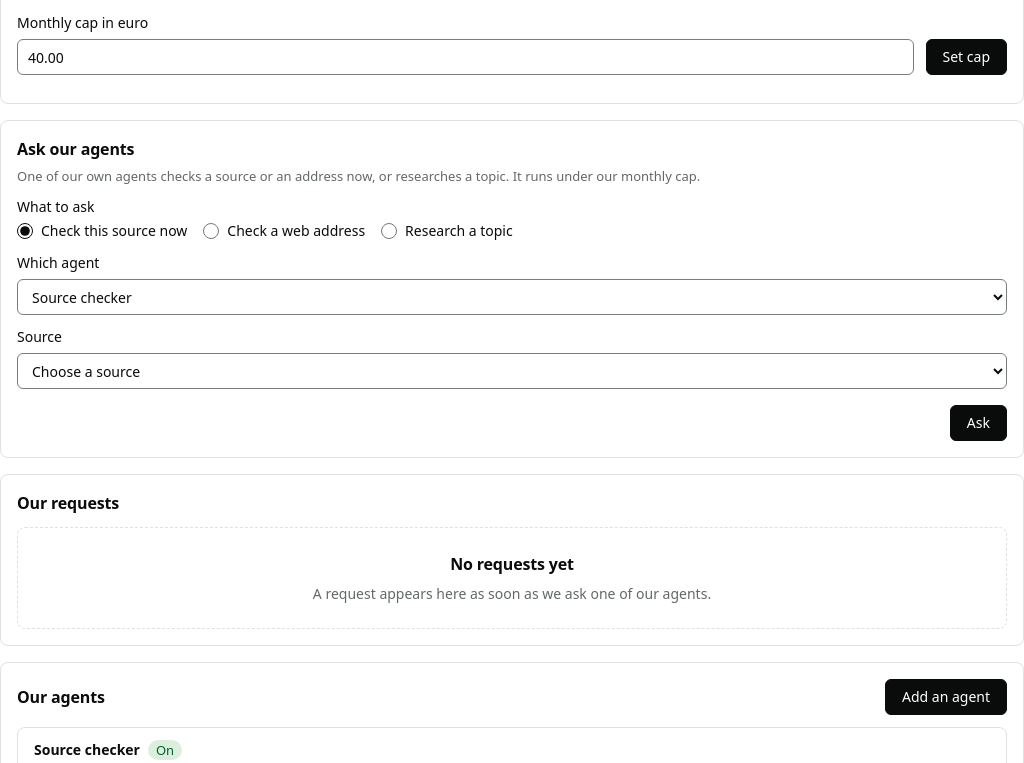
research requests › renders budget_cap_reached from its code
(page scrolled)
Check: the element that starts with "Ask our agents" is shown, box [0,120,1023,458]
Select "Finansinspektionen news" in the dropdown labelled "Source": (512,371) [17,353,1007,389]
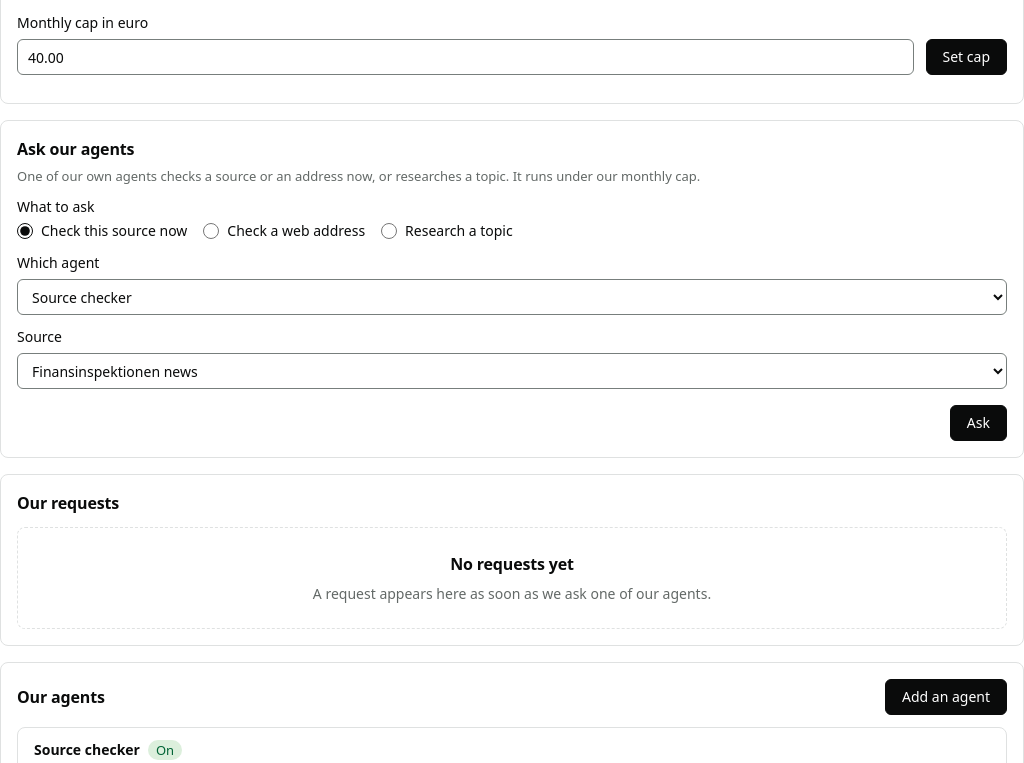
Click the button "Ask": (978,423) [950,405,1007,441]
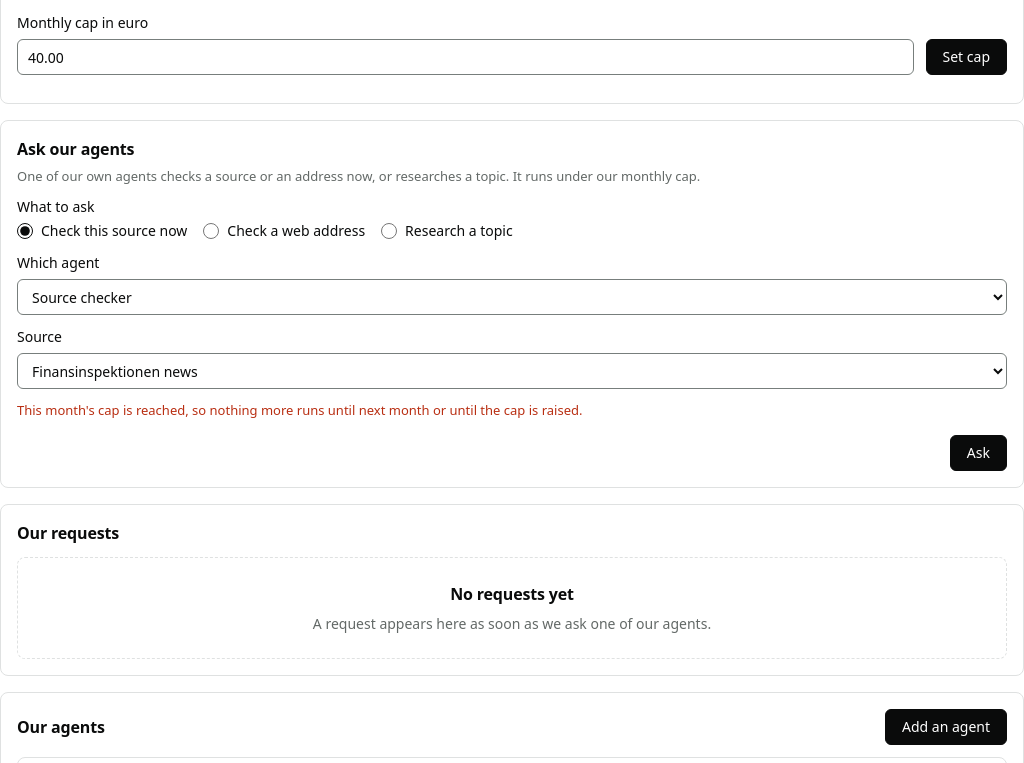
Check: the text "This month's cap is reached, so nothing more runs until next month or until the cap is raised." is shown, box [17,401,582,419]
